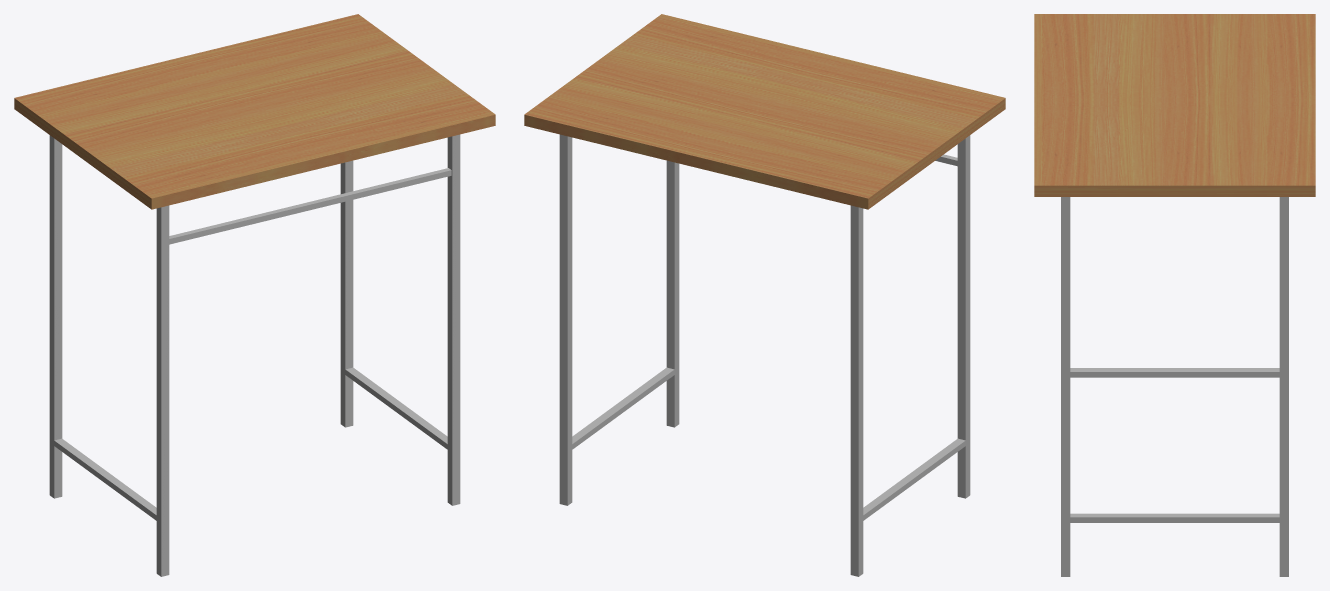
File: SchoolDesk.glb
3 views of the same model, side by side, from view 1: azimuth 30°, elevation 25°; view 2: azimuth 150°, elevation 25°; view 3: azimuth 270°, elevation 25° (orthographic). The views are drawn at different scales.
Visible parts, largest first — view 1: desk_top, desk_leg4, desk_leg2, desk_leg3, desk_leg1, desk_bar_top_1to3, desk_bar_bottom_3to4, desk_bar_bottom_1to2; view 2: desk_top, desk_leg3, desk_leg1, desk_leg4, desk_leg2, desk_bar_bottom_3to4, desk_bar_bottom_1to2; view 3: desk_top, desk_leg1, desk_leg2, desk_bar_bottom_1to2, desk_bar_bottom_3to4.
Boxes of the visible parts, x1,y1,x2,y2 form: desk_top: (14, 14, 495, 209); desk_leg4: (156, 205, 169, 576); desk_leg2: (447, 134, 460, 505); desk_leg3: (49, 135, 62, 498); desk_leg1: (340, 160, 353, 427); desk_bar_top_1to3: (169, 168, 451, 244); desk_bar_bottom_3to4: (52, 438, 158, 522); desk_bar_bottom_1to2: (345, 367, 449, 449); desk_top: (524, 14, 1005, 209); desk_leg3: (850, 205, 863, 576); desk_leg1: (559, 134, 572, 505); desk_leg4: (957, 135, 970, 498); desk_leg2: (666, 160, 679, 427); desk_bar_bottom_3to4: (863, 438, 967, 520); desk_bar_bottom_1to2: (572, 367, 676, 449); desk_top: (1034, 14, 1315, 196); desk_leg1: (1279, 197, 1288, 576); desk_leg2: (1061, 197, 1070, 576); desk_bar_bottom_1to2: (1065, 513, 1284, 522); desk_bar_bottom_3to4: (1070, 368, 1279, 377).
Size of the model in its own units: 13 by 14.2 by 9.
2 materials, 1 textured.
